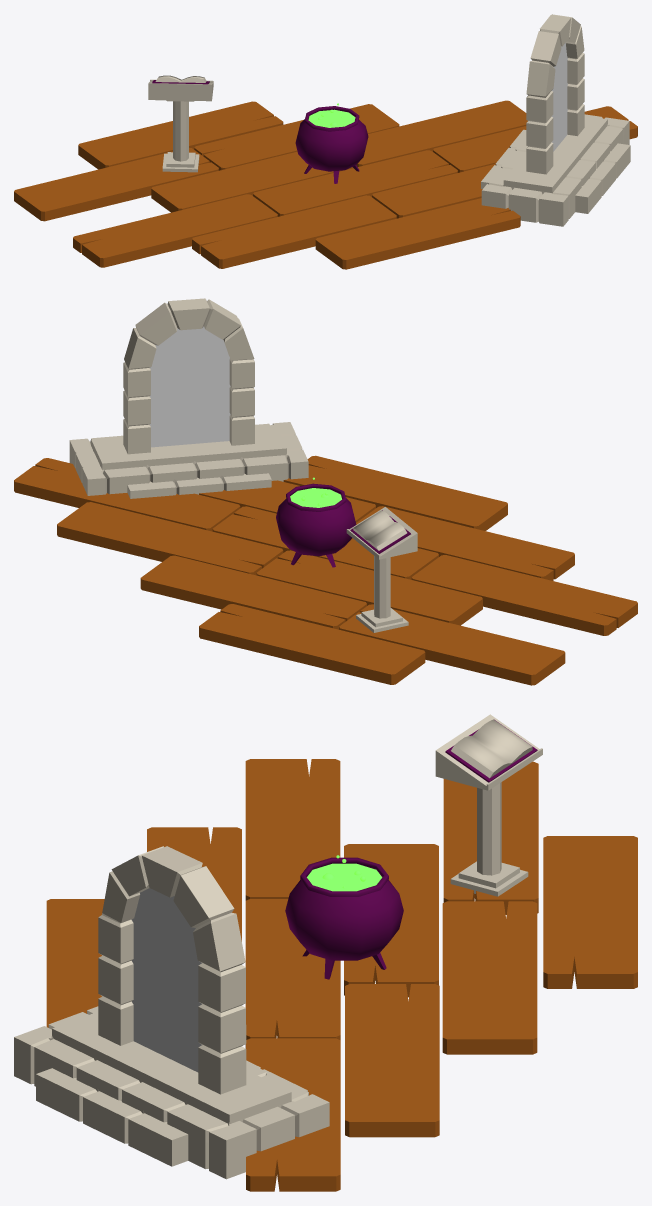
The model's file is Q4_assets_V1.fbx.
The picture shows the model from 3 angles, top to bottom: view 1: azimuth 30°, elevation 25°; view 2: azimuth 150°, elevation 25°; view 3: azimuth 270°, elevation 25°; orthographic projection. The views are drawn at different scales.
Visible parts, largest first — view 1: planks, portal, cauldron, pedestal, book; view 2: planks, portal, cauldron, pedestal, book; view 3: planks, portal, cauldron, pedestal, book.
Part boxes in pixels (x1,y1,x2,y2): planks: [14, 100, 637, 269]; portal: [481, 14, 630, 226]; cauldron: [295, 103, 368, 183]; pedestal: [148, 79, 213, 172]; book: [152, 75, 209, 84]; planks: [14, 455, 637, 685]; portal: [69, 298, 308, 498]; cauldron: [276, 477, 356, 567]; pedestal: [346, 507, 417, 632]; book: [350, 510, 410, 553]; planks: [46, 759, 637, 1191]; portal: [14, 846, 329, 1179]; cauldron: [285, 855, 403, 979]; pedestal: [435, 714, 542, 896]; book: [445, 719, 537, 782].
Bounding box in the file's own units: 881 × 246 × 557.
